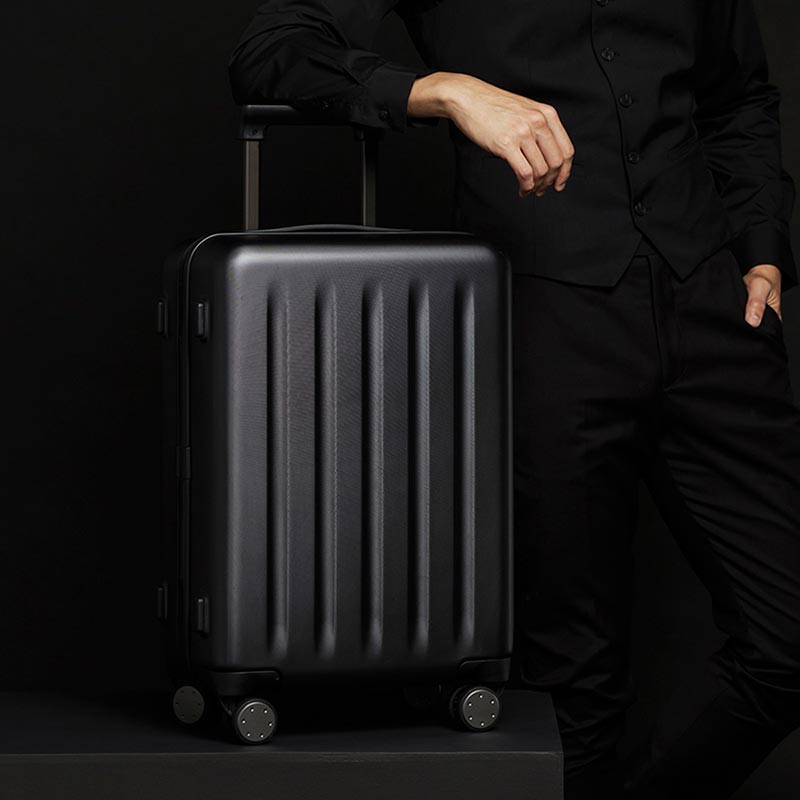box: (156, 227, 523, 683)
wheel: (449, 681, 504, 730), (232, 699, 279, 746)
